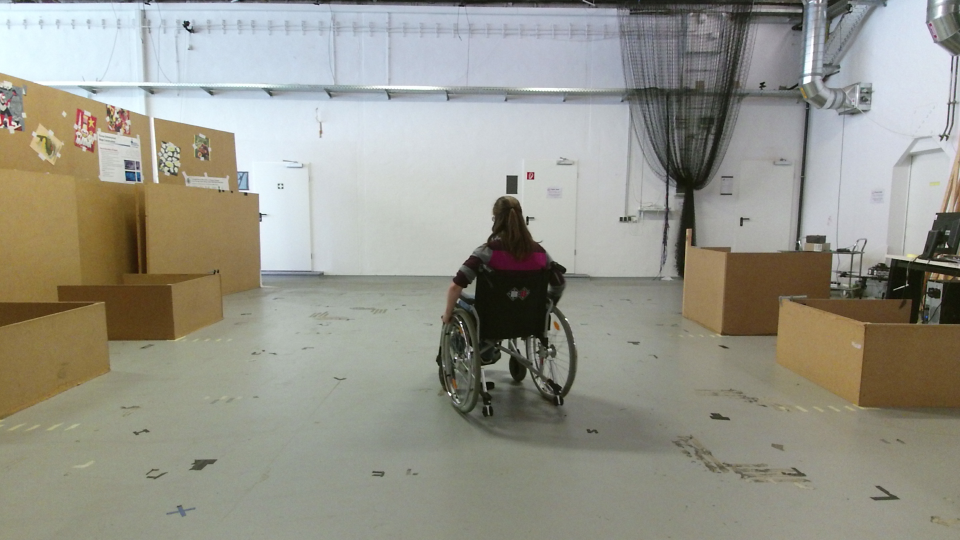wheelchair: (430, 187, 584, 426)
